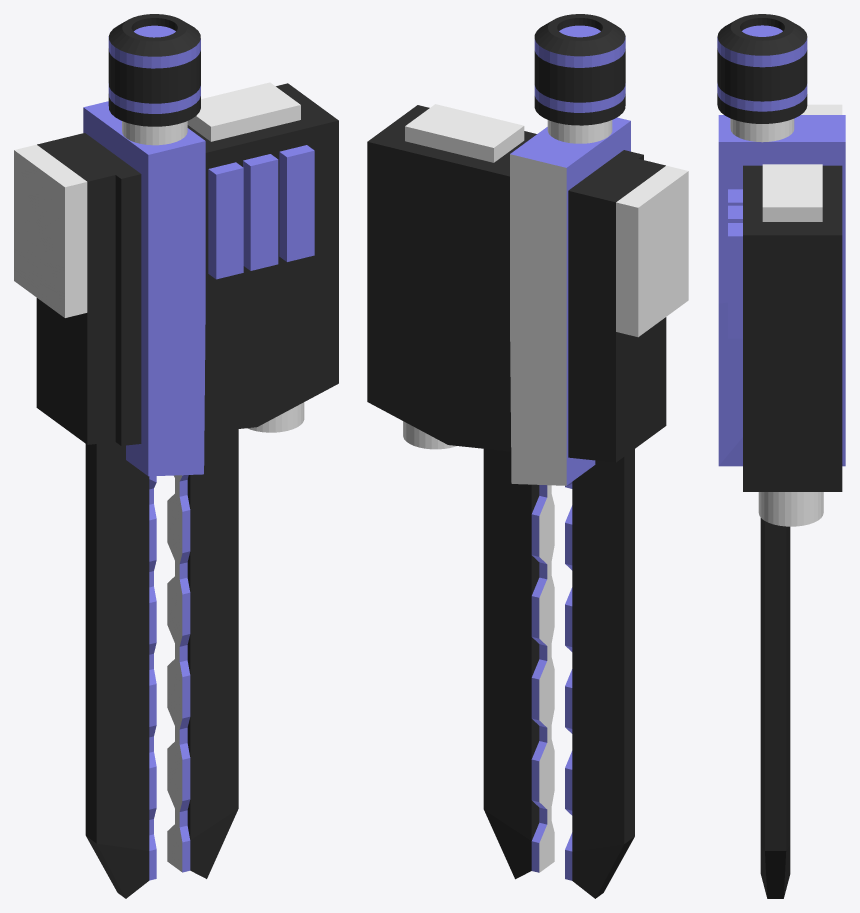
The model's file is topLaser.fbx.
The picture shows the model from 3 angles, left to right: view 1: azimuth 30°, elevation 25°; view 2: azimuth 150°, elevation 25°; view 3: azimuth 270°, elevation 25°; orthographic projection. The views are drawn at different scales.
Parts seen in each view (by area): view 1: LaserHead; view 2: LaserHead; view 3: LaserHead.
Boxes of the visible parts, <box> form: LaserHead: <box>14,14,338,898</box>; LaserHead: <box>367,14,688,898</box>; LaserHead: <box>717,14,845,898</box>.
Bounding box in the file's own units: 218 × 659 × 90.43.
